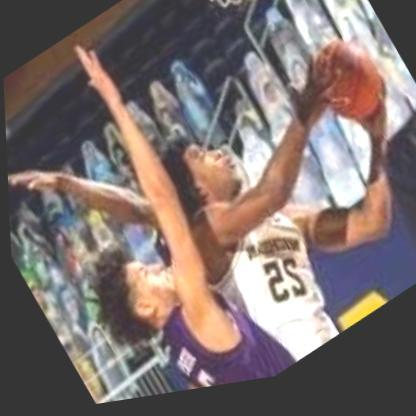basketball: (299, 32, 395, 147)
